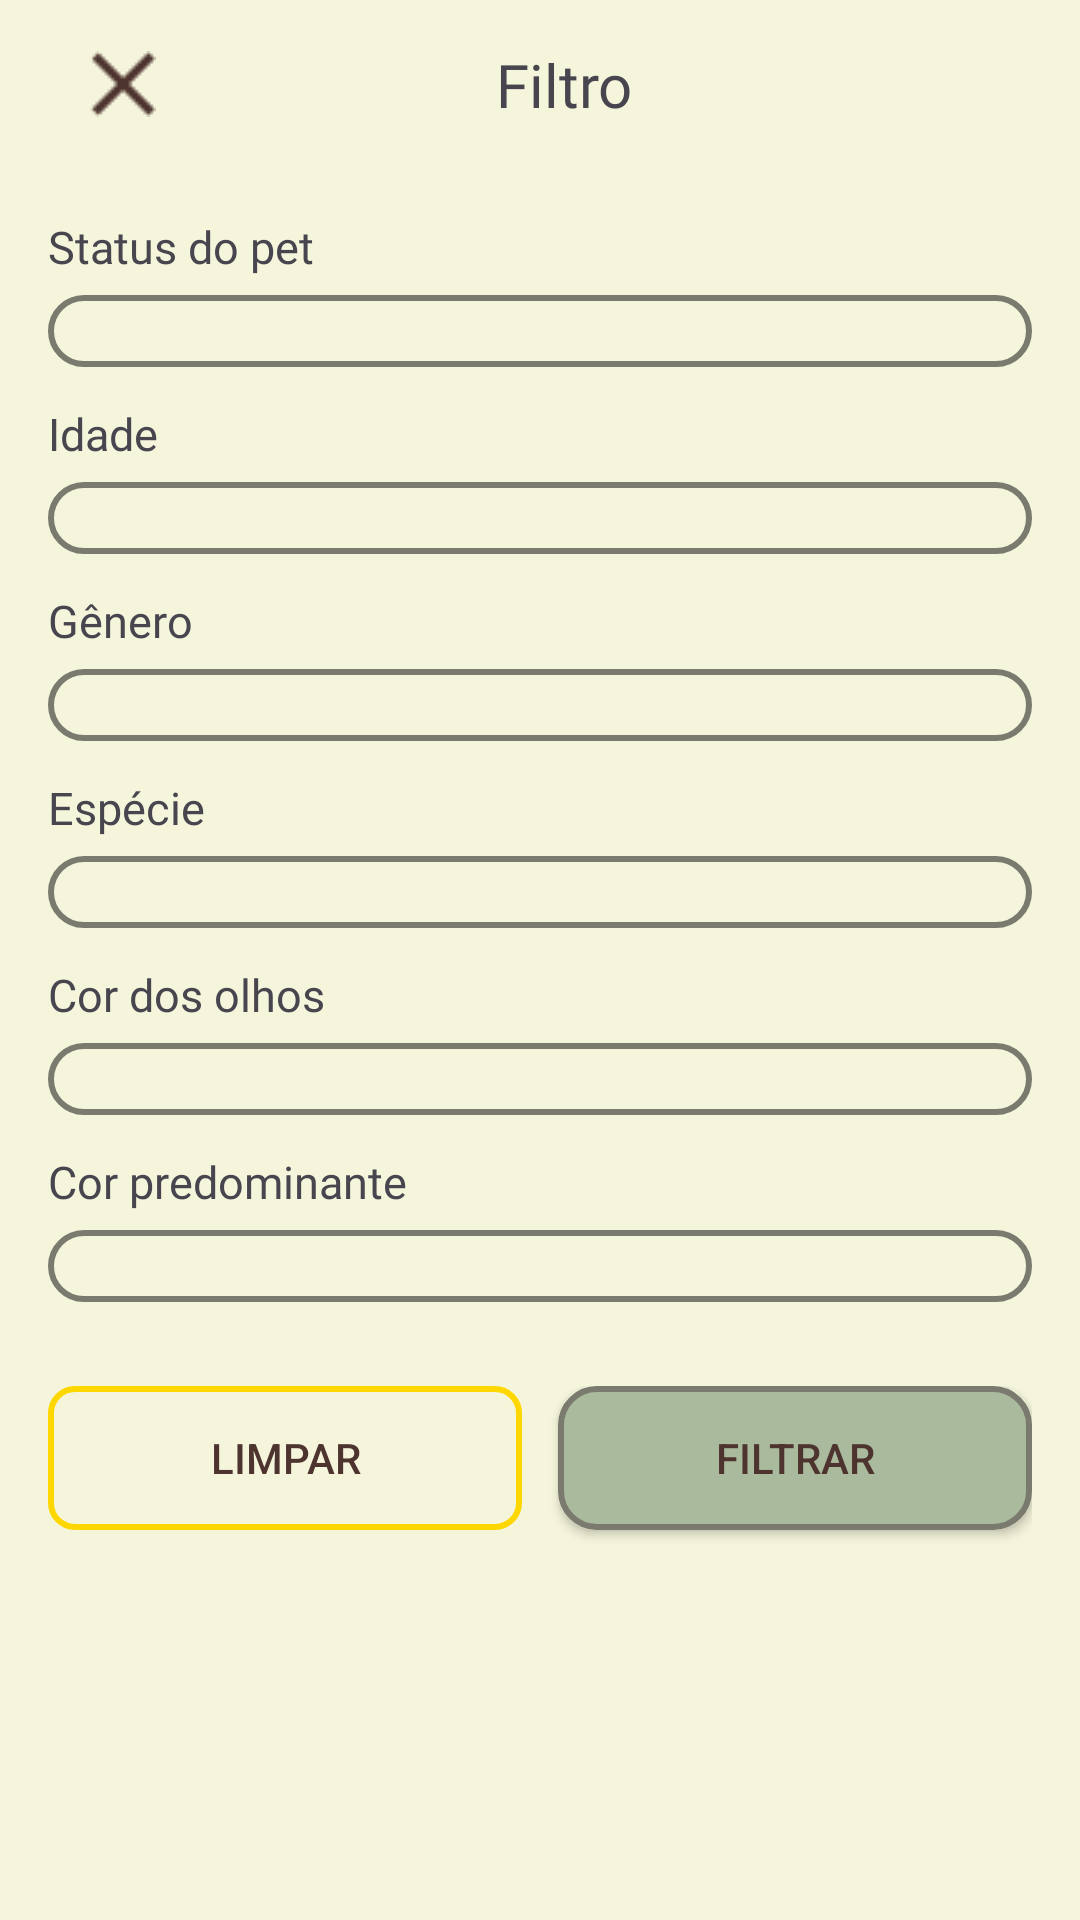

Named icons in this screenshot (1080px x 1920px) and their bounding boxes, (x1, y1, x2, y2):
close marrom: (90, 51, 156, 117)
